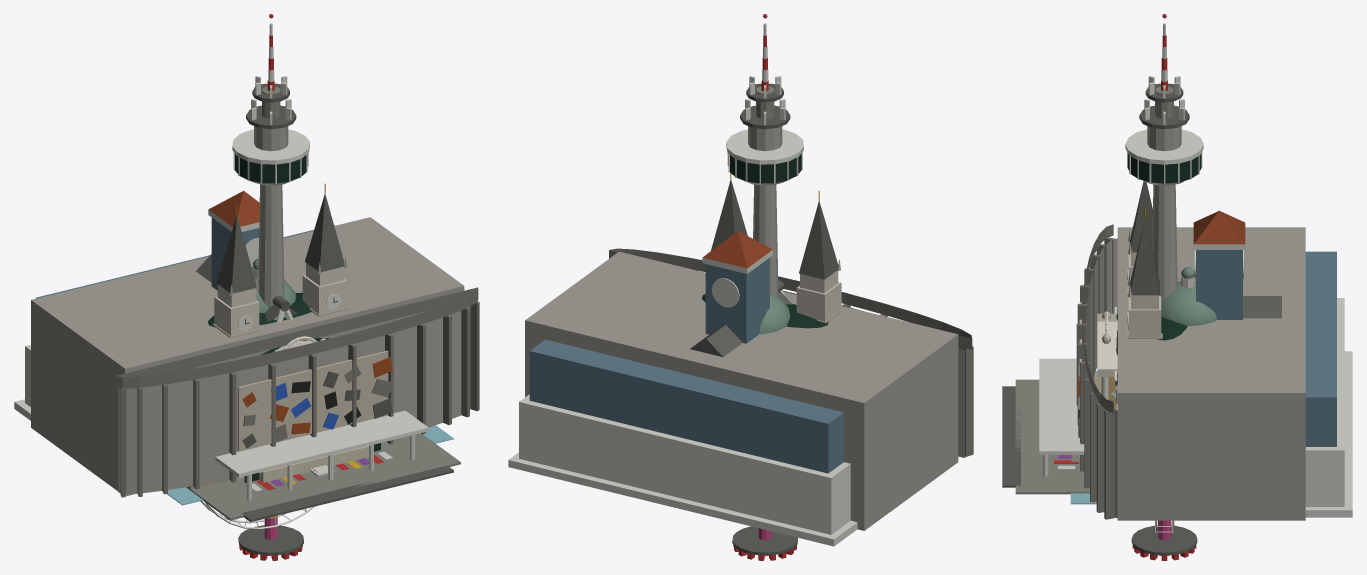
The model's file is assets.glb.
3 renders of one model, left to right at view 1: azimuth 30°, elevation 25°; view 2: azimuth 150°, elevation 25°; view 3: azimuth 270°, elevation 25°, orthographic.
Visible parts, largest first — view 1: teatro_guaira, torre_panoramica, catedral, estacao, pend_braco, colunata, museu_olho, jardim_botanico; view 2: teatro_guaira, estacao, museu_olho, torre_panoramica, catedral, pend_braco, colunata; view 3: teatro_guaira, estacao, torre_panoramica, museu_olho, catedral, colunata, pend_braco, paco_liberdade.
Part boxes in pixels (x1,y1,x2,y2): teatro_guaira: (31,217,479,521); torre_panoramica: (232,14,309,307); catedral: (196,183,349,338); estacao: (35,190,334,298); pend_braco: (238,515,303,560); colunata: (186,258,420,490); museu_olho: (14,292,453,505); jardim_botanico: (238,451,392,491); teatro_guaira: (525,248,973,530); estacao: (529,231,843,473); museu_olho: (508,294,857,546); torre_panoramica: (726,14,803,296); catedral: (690,173,843,356); pend_braco: (732,526,797,560); colunata: (759,293,790,334); teatro_guaira: (1002,224,1305,520); estacao: (1114,211,1336,446); torre_panoramica: (1125,14,1203,300); museu_olho: (1070,298,1352,517); catedral: (1127,181,1281,338); colunata: (1071,267,1216,462); pend_braco: (1131,520,1197,560); paco_liberdade: (1102,307,1117,410).
Size of the model in its own units: 53.56 by 75.8 by 44.7.
